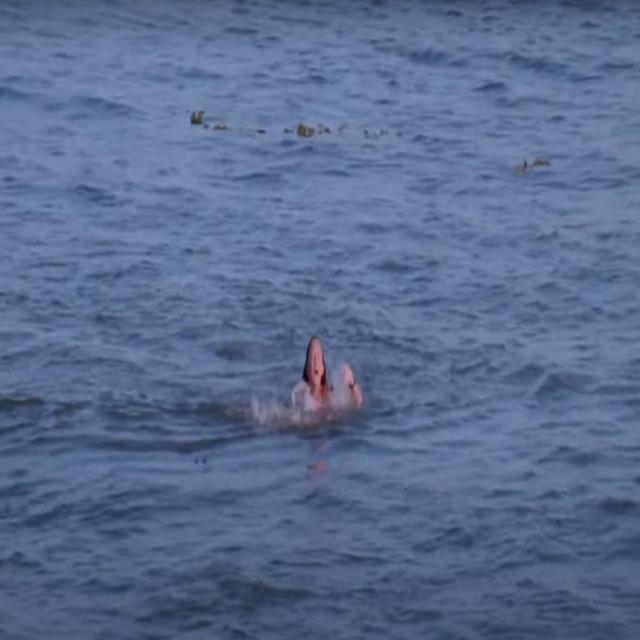Out of Water: (289, 331, 363, 422)
